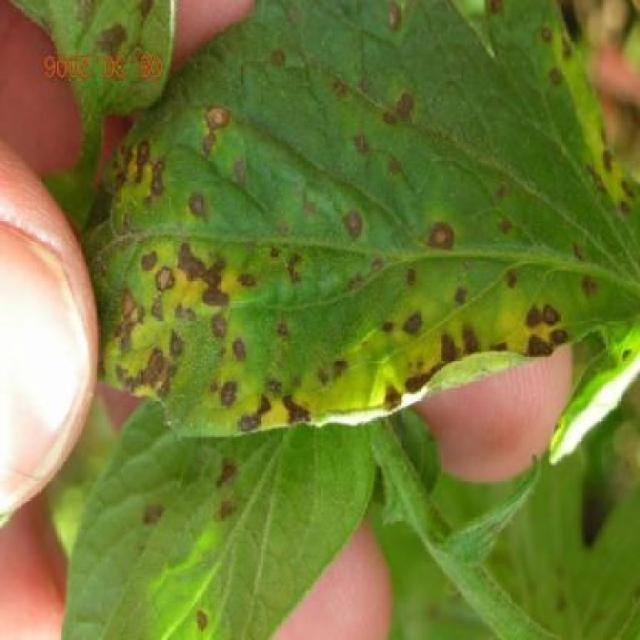Septoria leaf spot: (82, 2, 639, 473)
